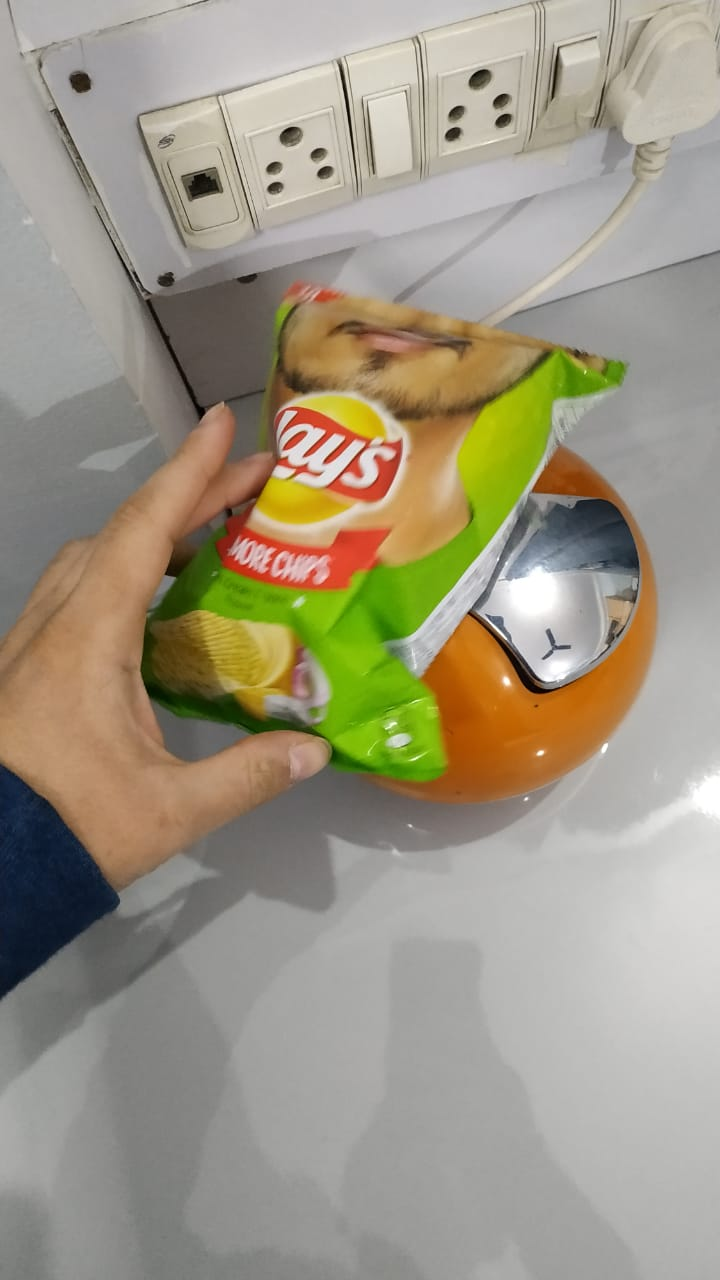lays chips: (133, 292, 580, 806)
